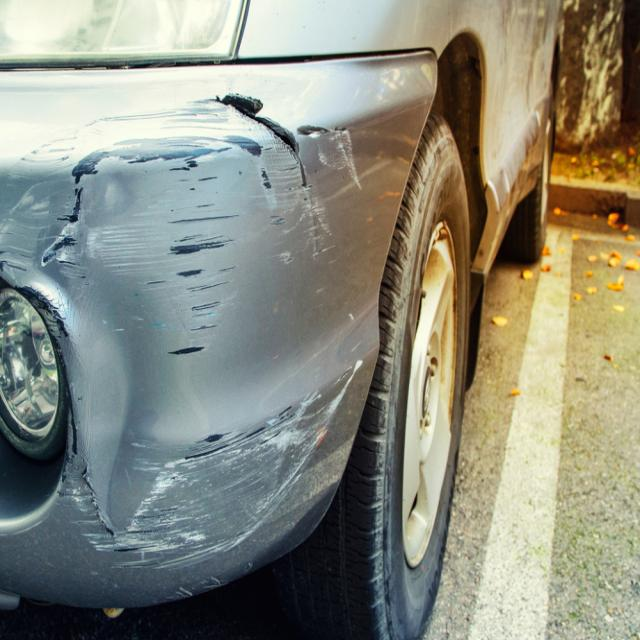crack: (193, 94, 351, 196)
dent: (69, 279, 162, 531)
scratch: (0, 94, 376, 568)
